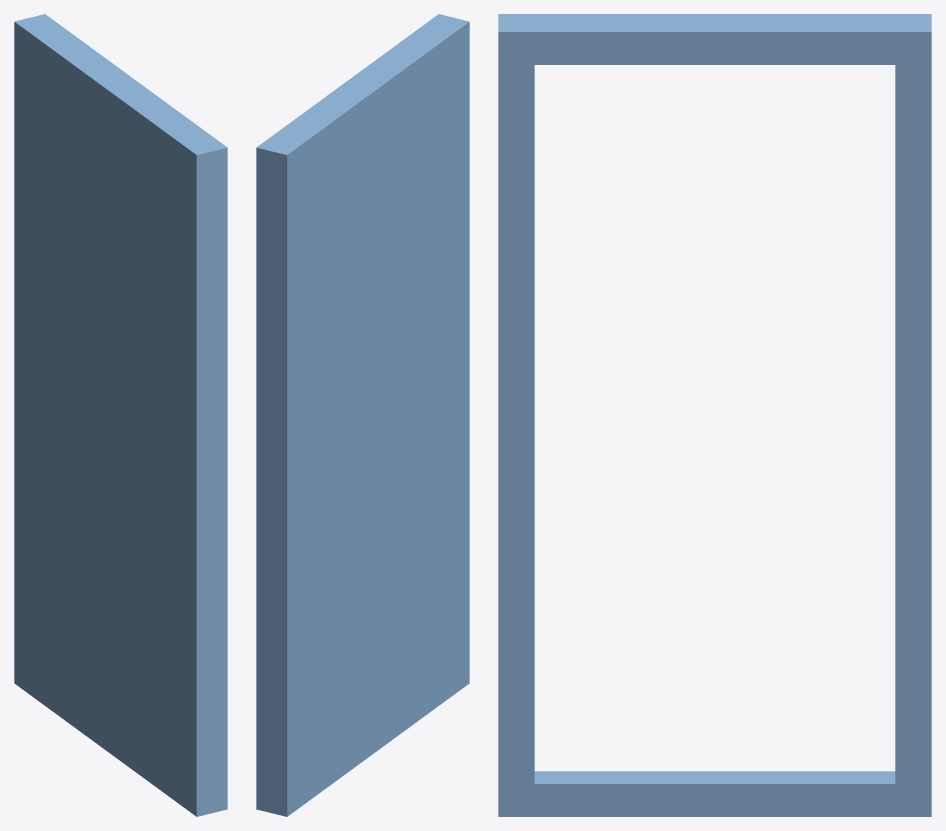
File: adpanel.glb
3 renders of one model, left to right at view 1: azimuth 30°, elevation 25°; view 2: azimuth 150°, elevation 25°; view 3: azimuth 270°, elevation 25°, orthographic. The views are drawn at different scales.
Visible parts, largest first — view 1: Plane; view 2: Plane; view 3: Plane.
Boxes of the visible parts, <box> form: Plane: <box>14,14,227,816</box>; Plane: <box>256,14,469,816</box>; Plane: <box>498,14,931,816</box>.
Size of the model in its own units: 0.0977 by 2 by 1.
